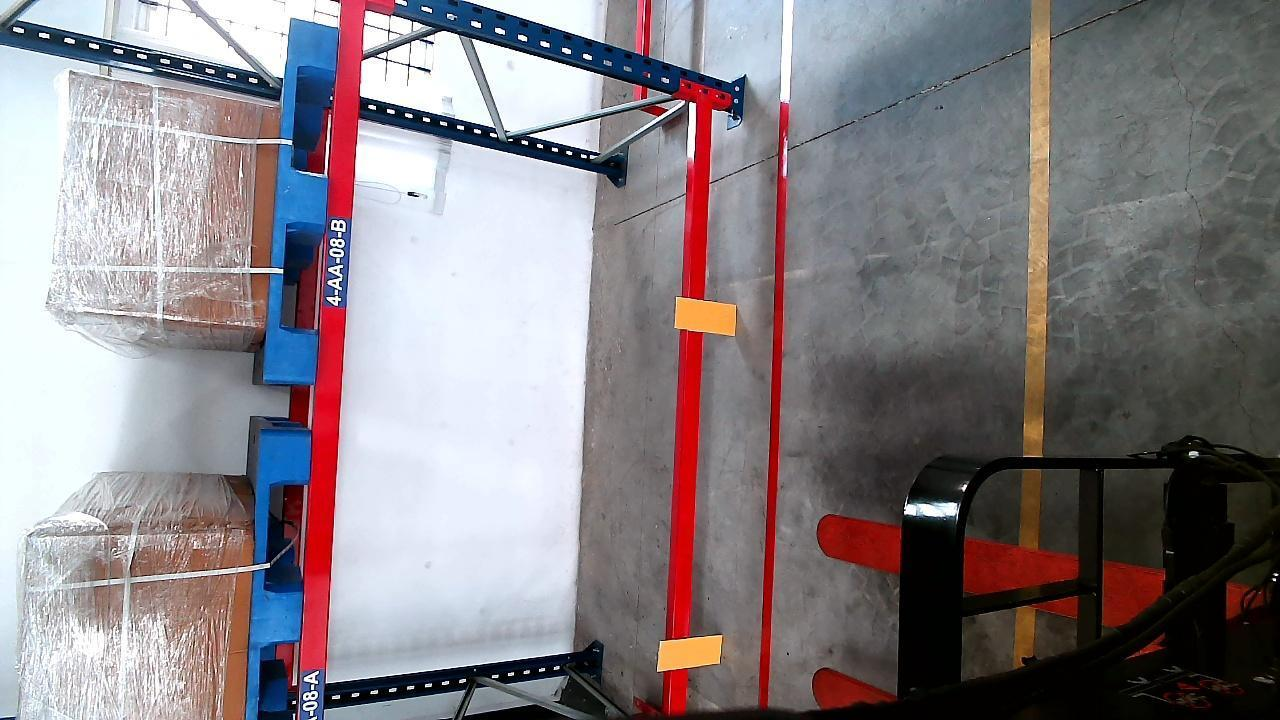h_rack: (297, 3, 367, 720), (668, 104, 713, 720)
orange_strip: (677, 297, 739, 335), (660, 634, 725, 670)
red_line: (758, 0, 797, 711)
small_pallet: (260, 15, 331, 386), (248, 437, 310, 717)
yellow_line: (1023, 0, 1052, 506)
